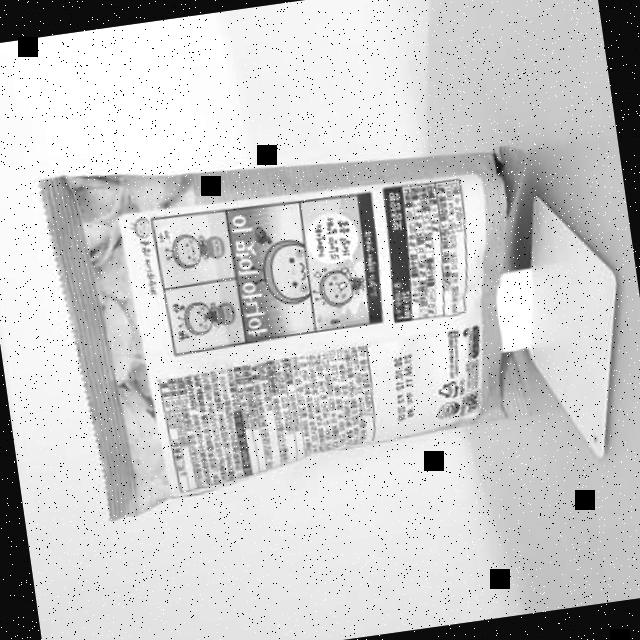snack_bag: (26, 98, 590, 533)
